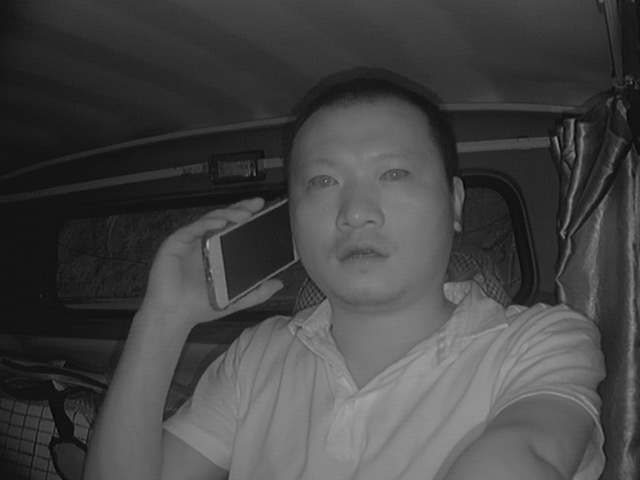hand: (148, 196, 277, 319)
